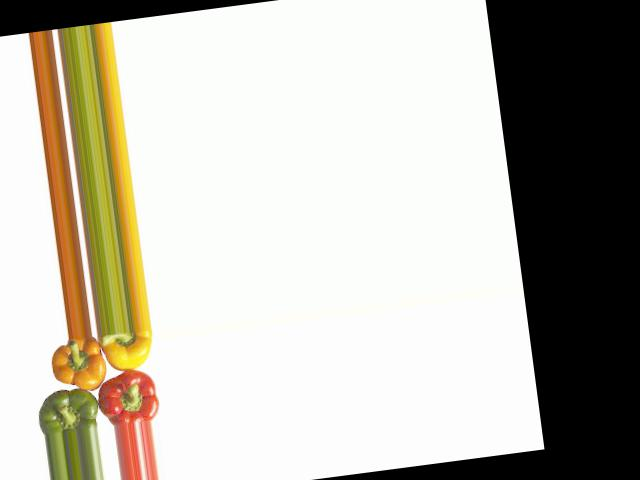bell_pepper: (94, 327, 158, 377)
